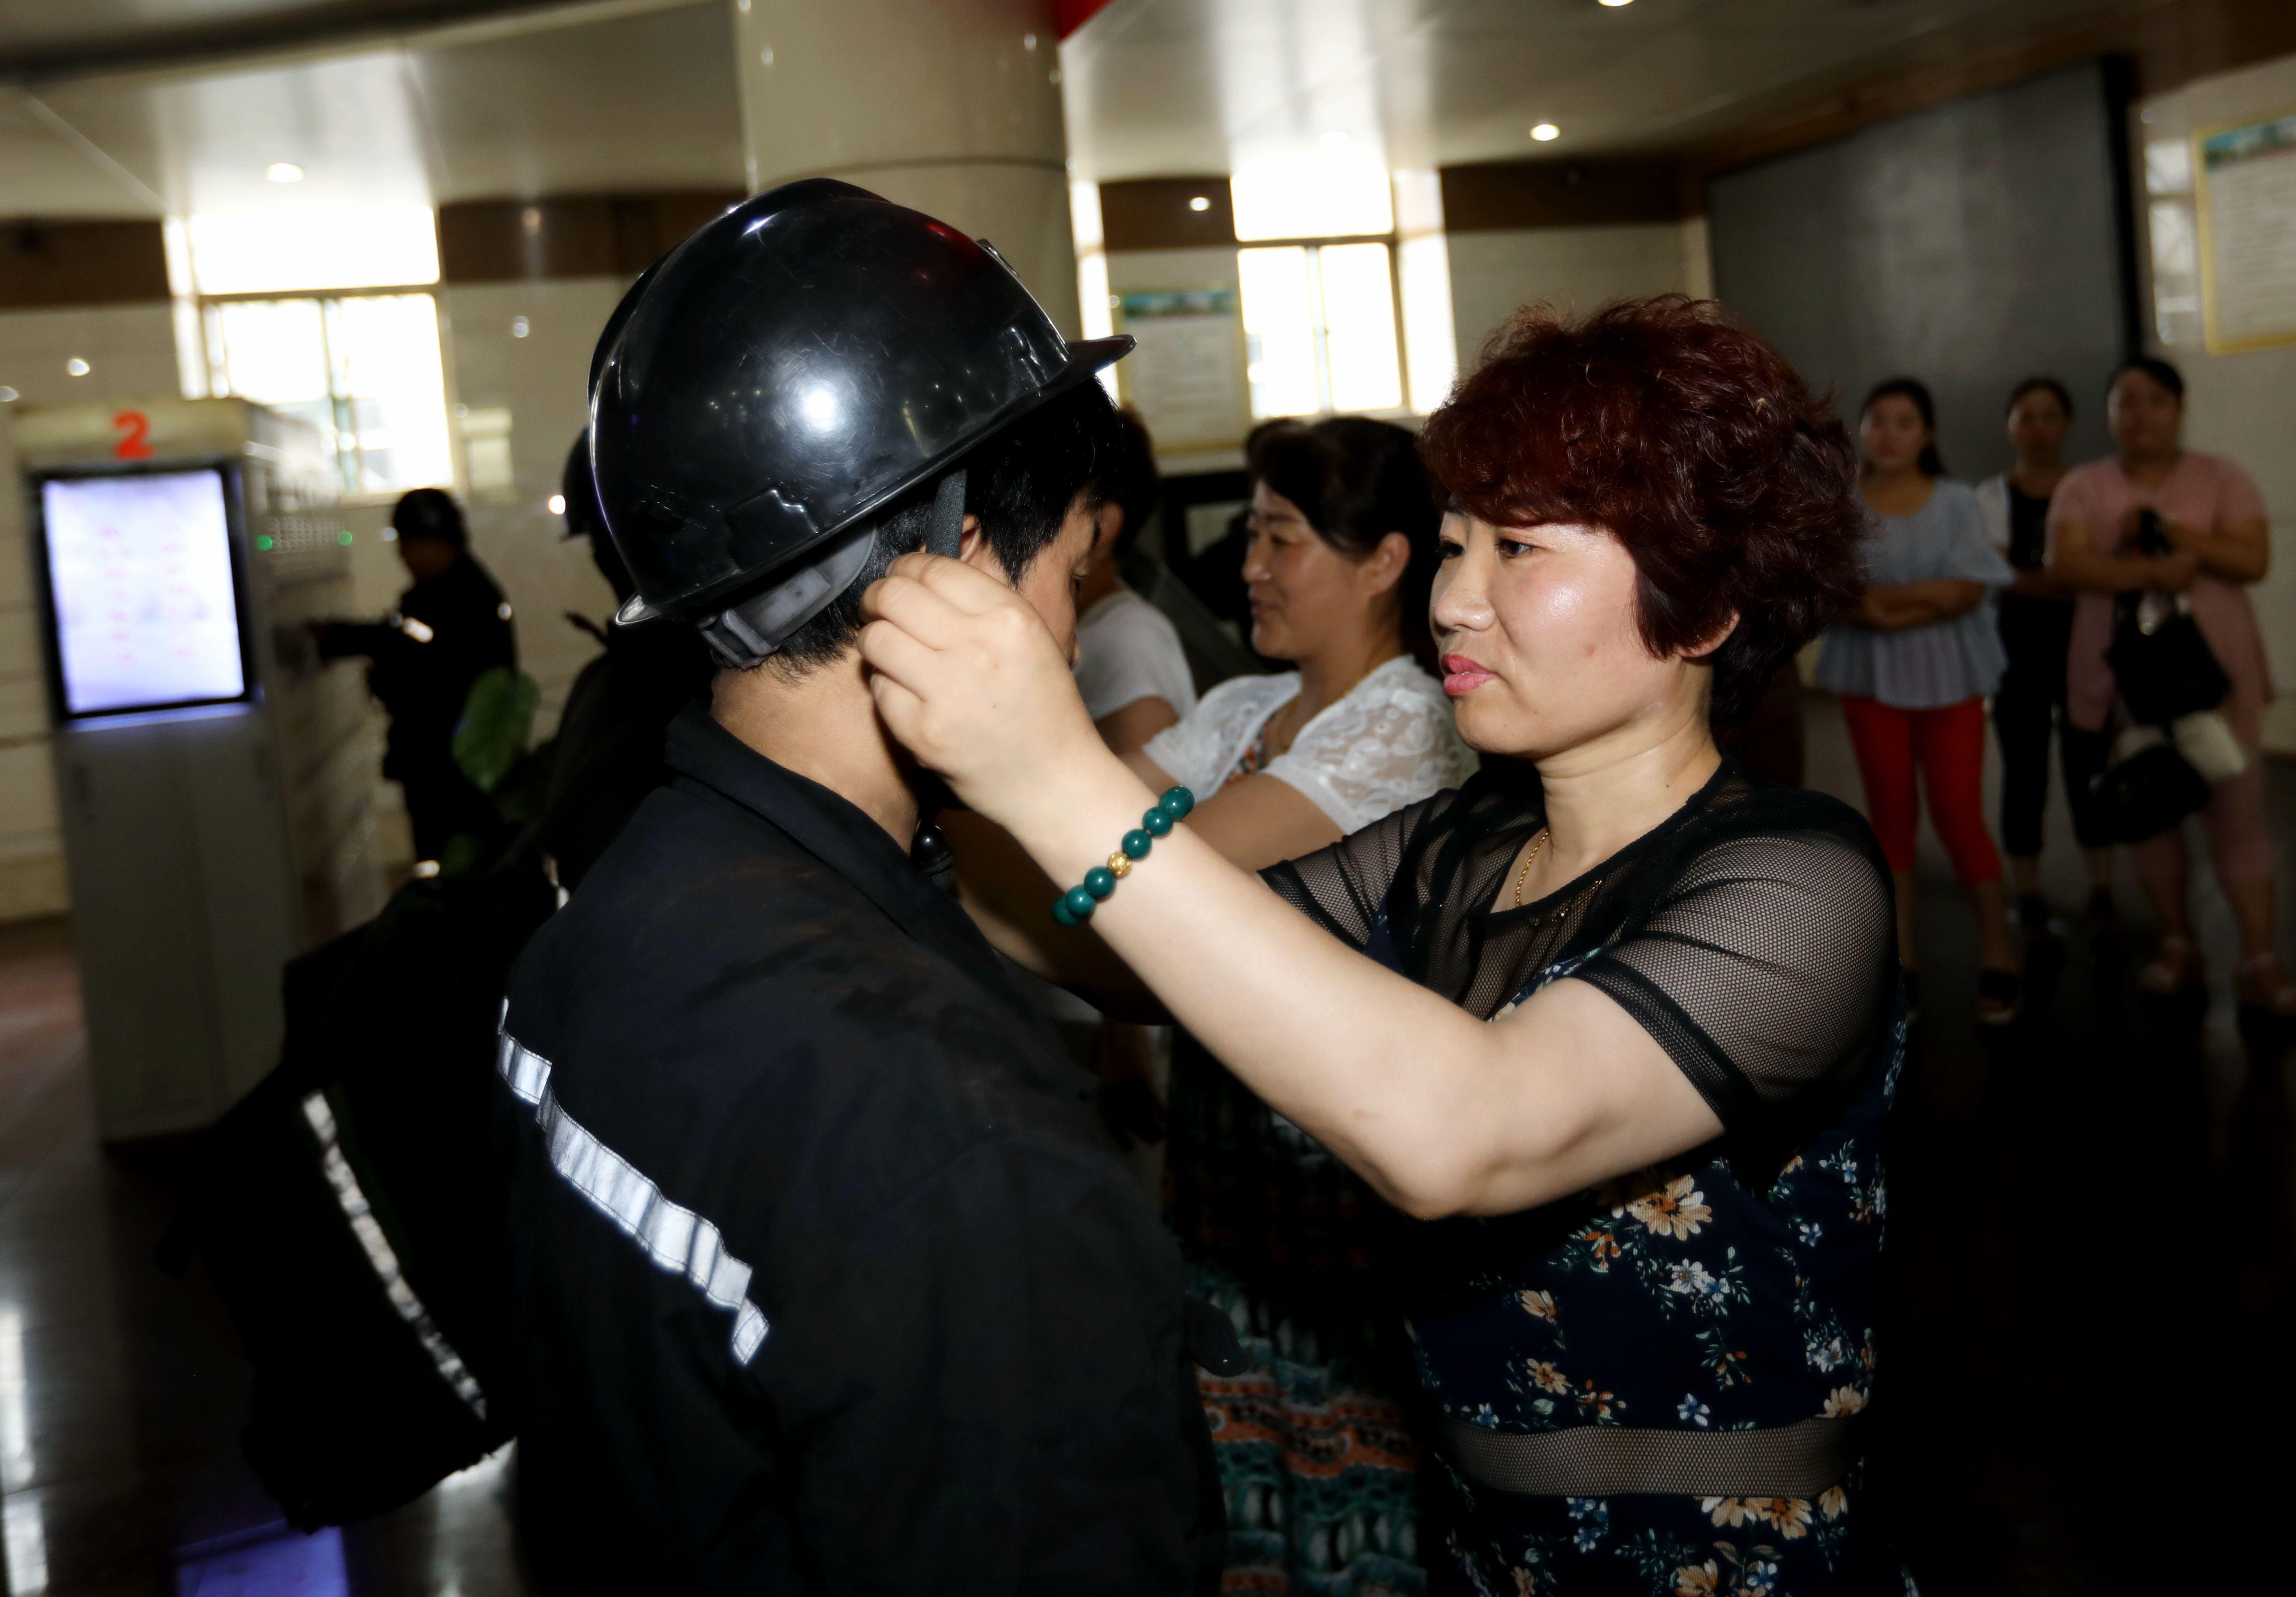helmet: (584, 169, 1136, 667)
